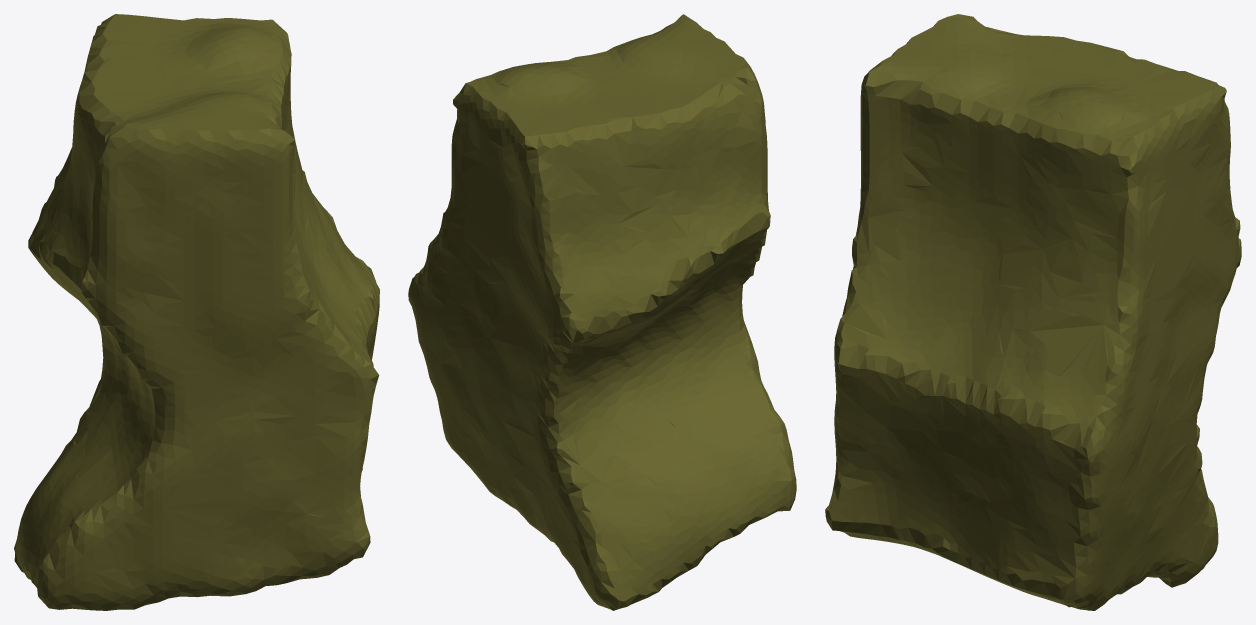
File: Model_10096_LH__Lateral_intrapartietal_area_of_cortex_(LIP).obj
The picture shows the model from 3 angles, left to right: view 1: azimuth 30°, elevation 25°; view 2: azimuth 150°, elevation 25°; view 3: azimuth 270°, elevation 25°; orthographic projection. The views are drawn at different scales.
Size of the model in its own units: 3.3 by 4.42 by 3.07.
